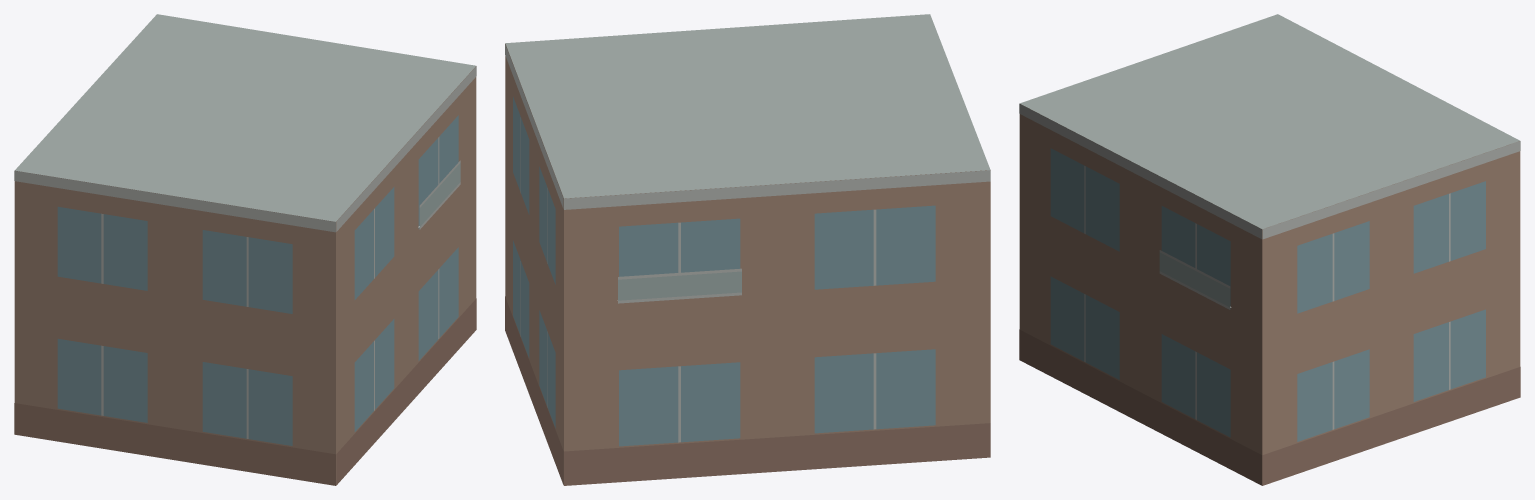
Rendered from survey-upis-32731322.glb.
3 views of the same model, side by side, from view 1: azimuth 30°, elevation 25°; view 2: azimuth 150°, elevation 25°; view 3: azimuth 270°, elevation 25° (orthographic). The views are drawn at different scales.
Parts seen in each view (by area): view 1: survey-upis-32731322.tmp; view 2: survey-upis-32731322.tmp; view 3: survey-upis-32731322.tmp.
Part boxes in pixels (<box>): survey-upis-32731322.tmp: <box>14,14,476,485</box>; survey-upis-32731322.tmp: <box>505,14,990,485</box>; survey-upis-32731322.tmp: <box>1019,14,1520,485</box>.
Size of the model in its own units: 10.98 by 6.1 by 10.8.
